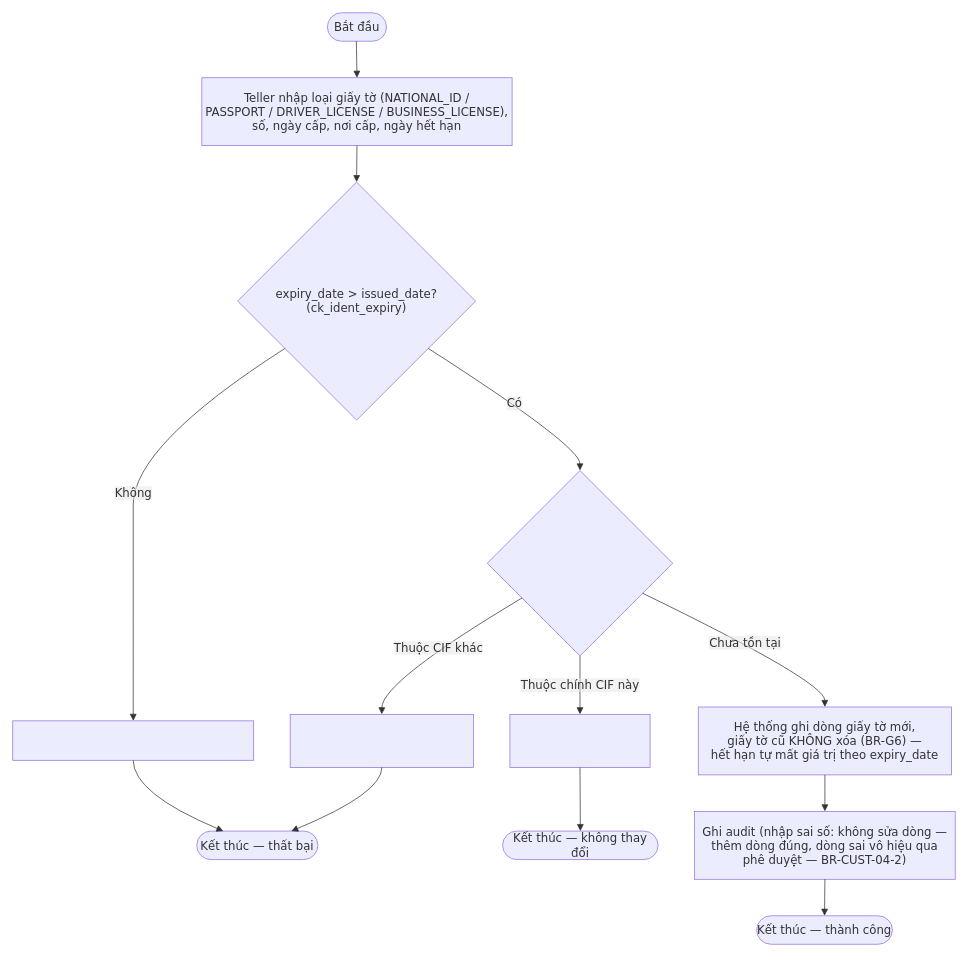
Image size: 968x957. Some labels were removed from this diagram. The shapes that lost their labels are listed below. From the top down, each one's centre as x and y in pixels, then its label:
At pixel 580 563: "(loại, số) đã tồn tại? (uq_ident)".
At pixel 133 740: "Từ chối — ngày hết hạn không hợp lệ".
At pixel 381 741: "Từ chối — chuyển điều tra trùng danh tính thủ công".
At pixel 579 741: "Báo 'đã tồn tại', không tạo bản sao".
